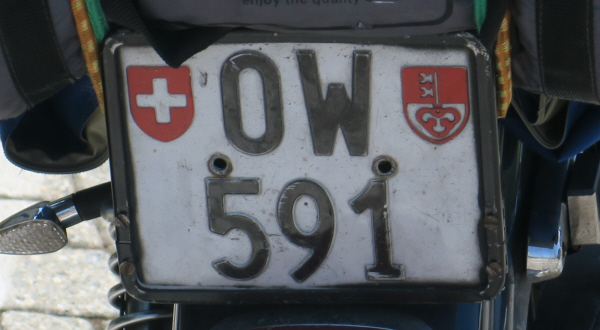license_plate: (114, 42, 484, 297)
